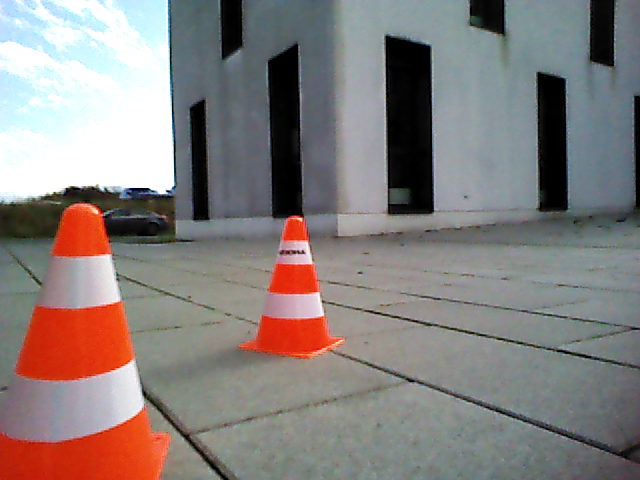orangeconesmall: (4, 200, 154, 480), (256, 214, 334, 350)
